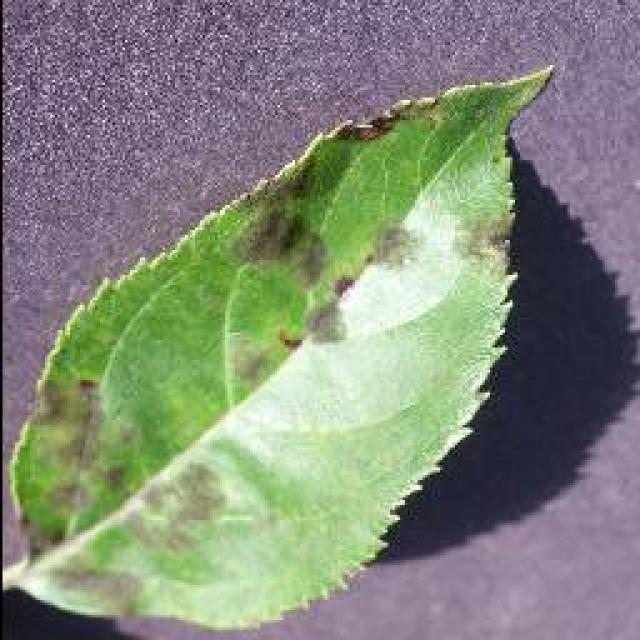apple scab disease: (3, 60, 555, 632)
